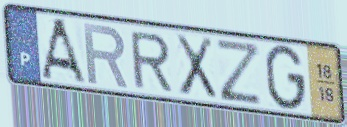A: (39, 16, 89, 87)
G: (264, 43, 308, 114)
R: (81, 20, 131, 90), (128, 30, 175, 93)
X: (173, 32, 219, 102)
Z: (214, 36, 264, 107)
